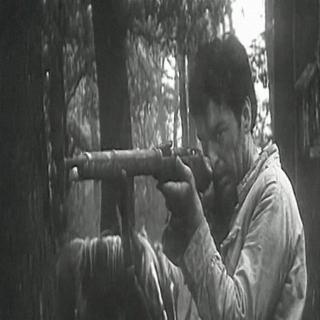gun: (63, 127, 231, 249)
